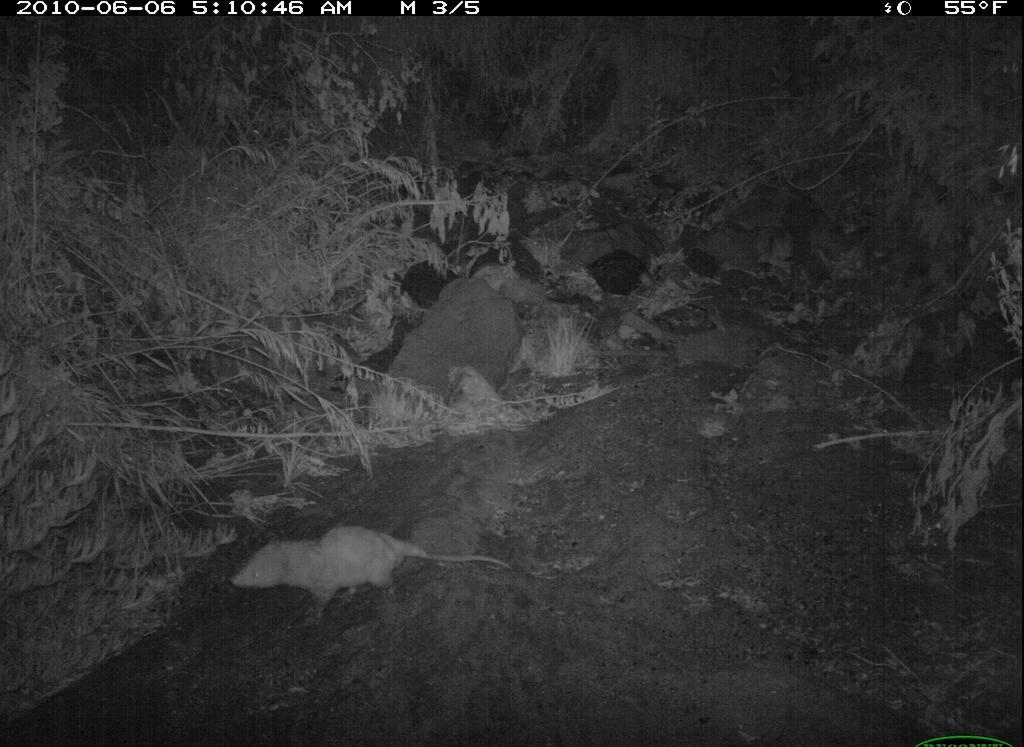opossum: (216, 515, 543, 639)
